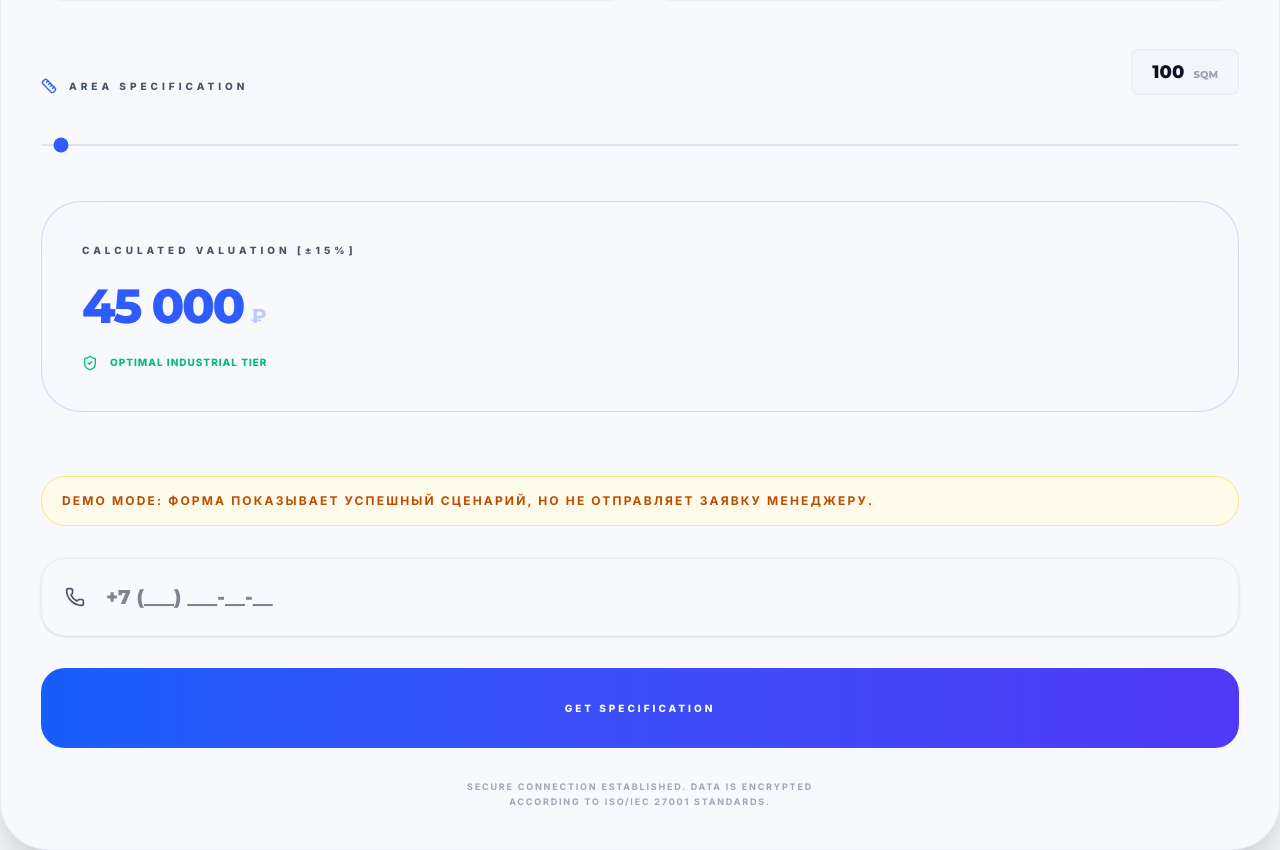
Test: CalculatorForm › submits and shows success state
This screenshot has width=1280, height=850.
(page scrolled)
In the field with placeholder "+7 (___) ___-__-__": (640, 597) 41,558 -> 1239,636, type "+7 (999) 123-45-67"
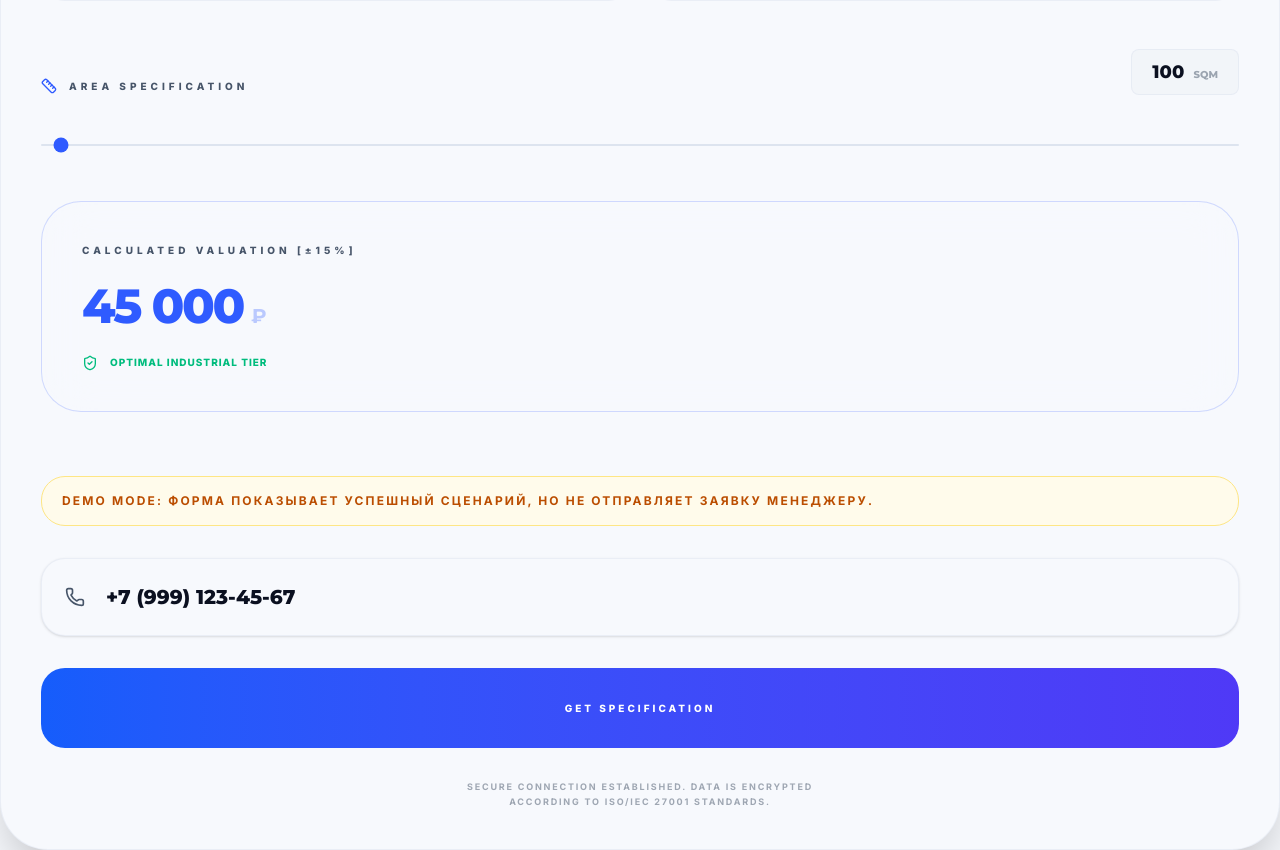
Click the button "GET SPECIFICATION": (640, 708) 41,668 -> 1239,748
(page scrolled)
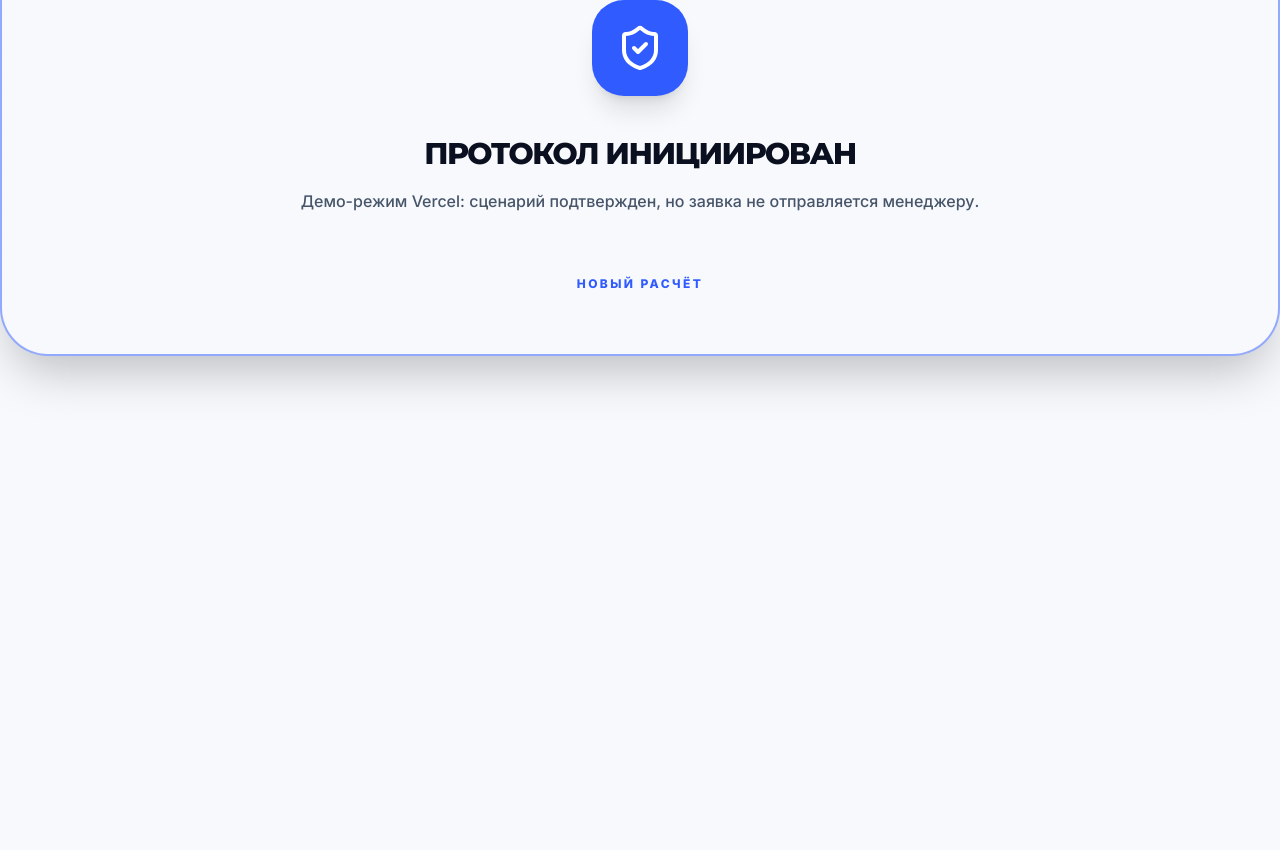
Result: the heading "ПРОТОКОЛ ИНИЦИИРОВАН" is shown at 424,135 -> 856,172
